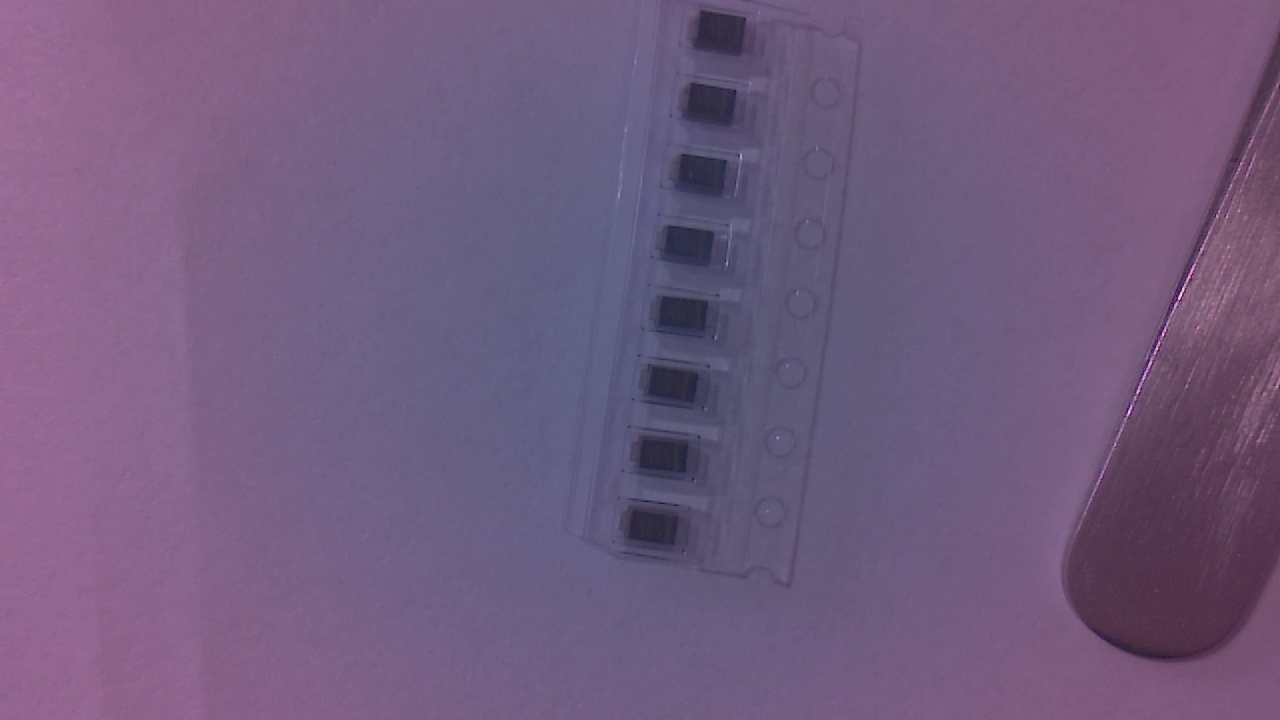Diode: (621, 510, 692, 555), (679, 88, 748, 133), (688, 17, 760, 60), (642, 368, 712, 410), (632, 438, 702, 480), (673, 159, 742, 199), (659, 227, 726, 268), (651, 299, 719, 338)
